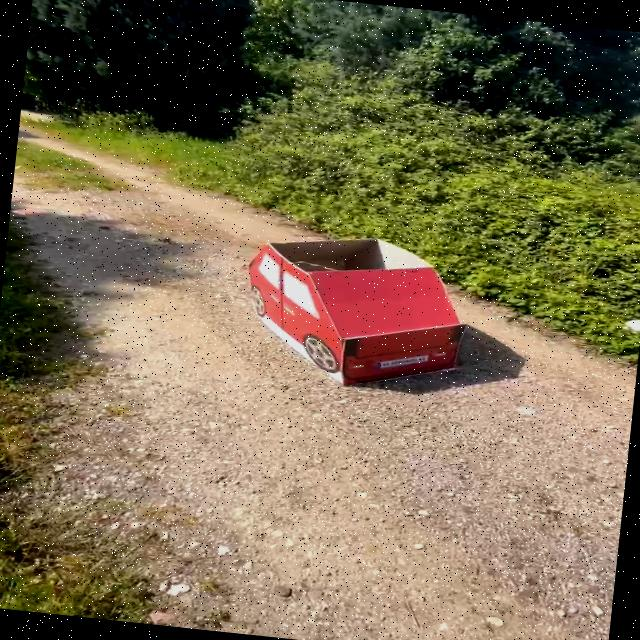red_car: (214, 215, 517, 410)
